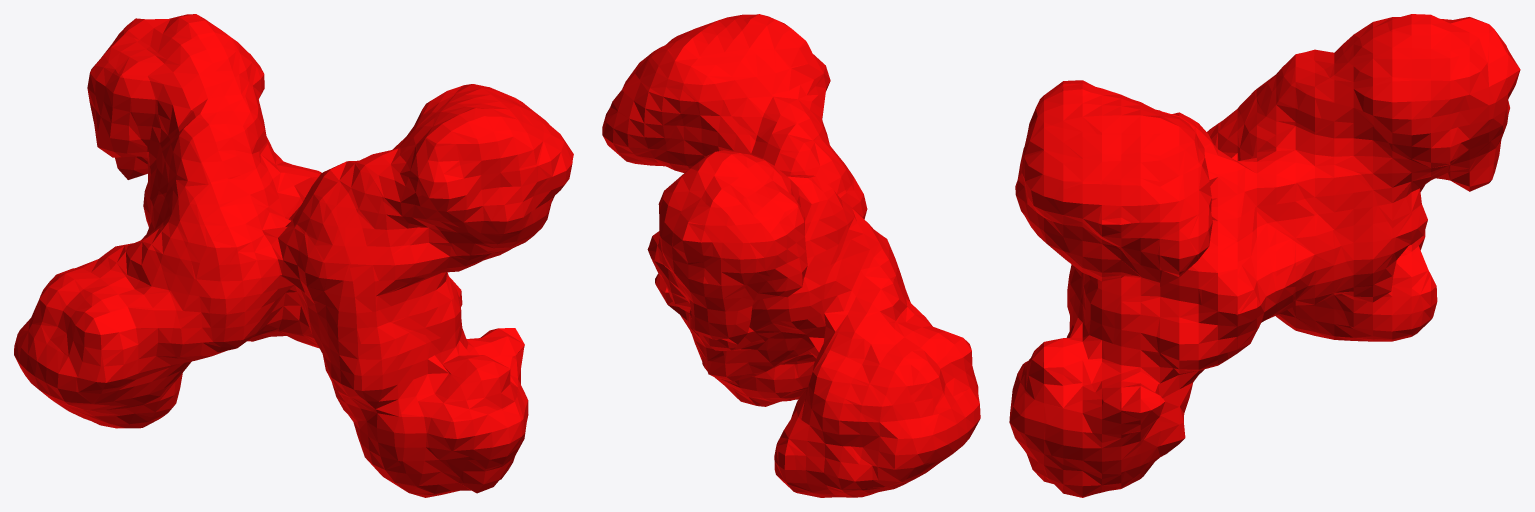
File: murF_coarse.dae
The picture shows the model from 3 angles, left to right: view 1: azimuth 30°, elevation 25°; view 2: azimuth 150°, elevation 25°; view 3: azimuth 270°, elevation 25°; orthographic projection. The views are drawn at different scales.
Parts seen in each view (by area): view 1: murF; view 2: murF; view 3: murF.
Boxes of the visible parts, bbox=[...] form: murF: bbox=[14, 14, 573, 497]; murF: bbox=[602, 14, 980, 497]; murF: bbox=[1009, 14, 1520, 497].
Bounding box in the file's own units: 102 × 85.34 × 95.49.
